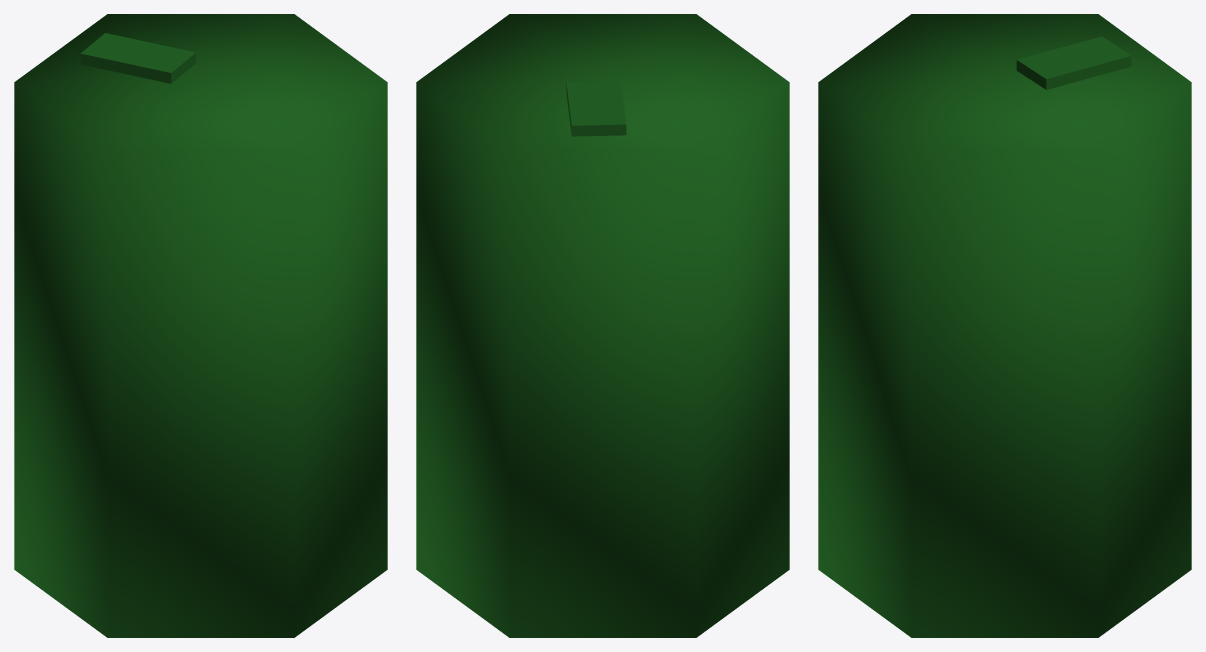
File: ThrashSoda2.fbx
3 renders of one model, left to right at view 1: azimuth 30°, elevation 25°; view 2: azimuth 150°, elevation 25°; view 3: azimuth 270°, elevation 25°, orthographic.
Parts seen in each view (by area): view 1: Can2; view 2: Can2; view 3: Can2.
Boxes of the visible parts, bbox=[...] form: Can2: bbox=[14, 14, 387, 637]; Can2: bbox=[416, 14, 789, 637]; Can2: bbox=[818, 14, 1191, 637].
Size of the model in its own units: 28.7 by 48.76 by 33.14.
